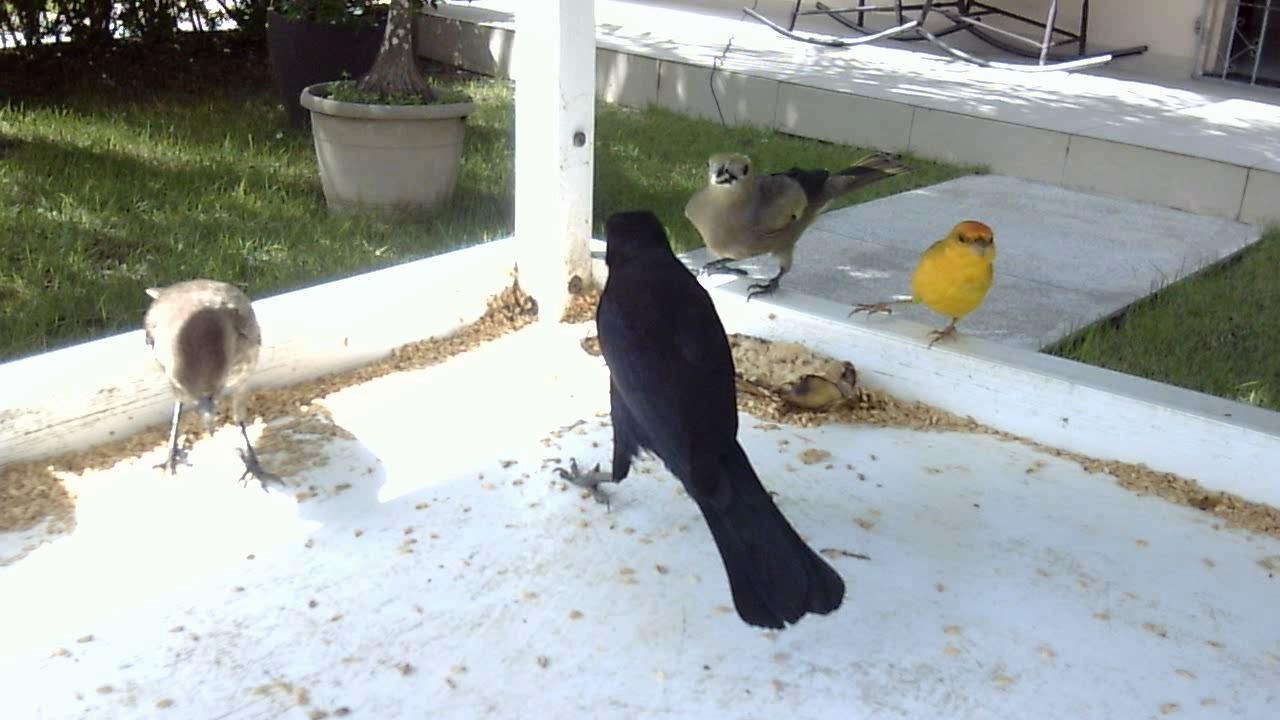canario_do_amazonas: (846, 214, 1008, 352)
chupim: (532, 195, 865, 647), (130, 271, 296, 495)
sanhaco_do_coqueiro: (673, 119, 914, 313)
